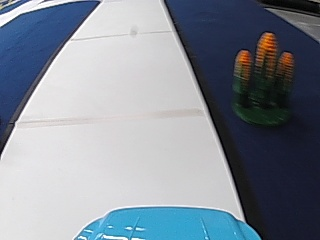corn: (230, 31, 295, 128)
